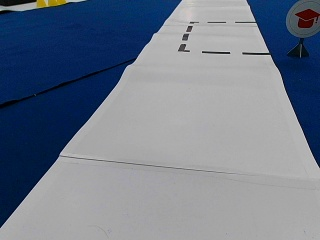school: (285, 1, 319, 37)
